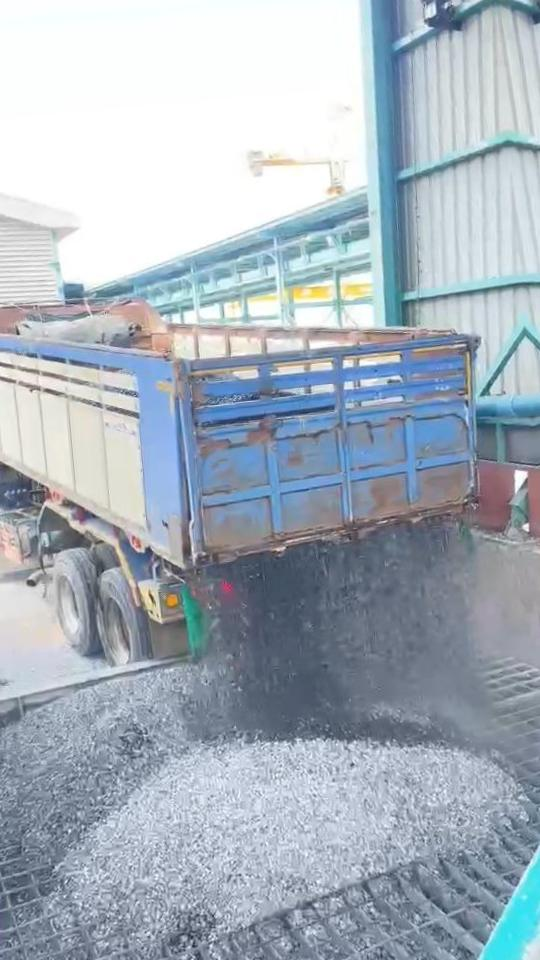gravel: (0, 532, 523, 947)
